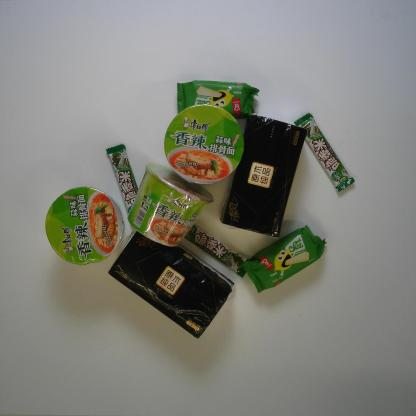Chocolate: (294, 113, 354, 192), (183, 223, 250, 279), (106, 144, 145, 224)
Dessert: (241, 225, 327, 294), (176, 79, 260, 120)
Instant Noodles: (127, 162, 214, 247), (44, 186, 125, 266), (164, 105, 244, 185)
Tissue: (108, 228, 234, 340), (219, 113, 308, 238)
